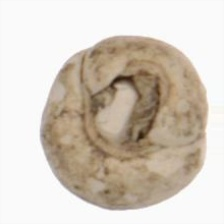L3: (83, 63, 172, 156)
L4: (40, 35, 208, 211)
